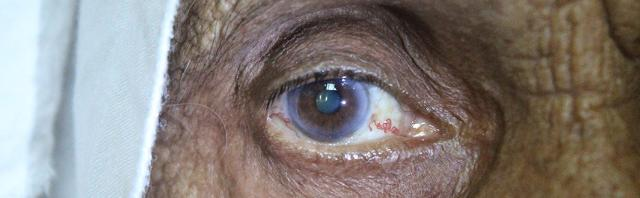eye: (286, 72, 370, 146), (286, 74, 376, 136)
